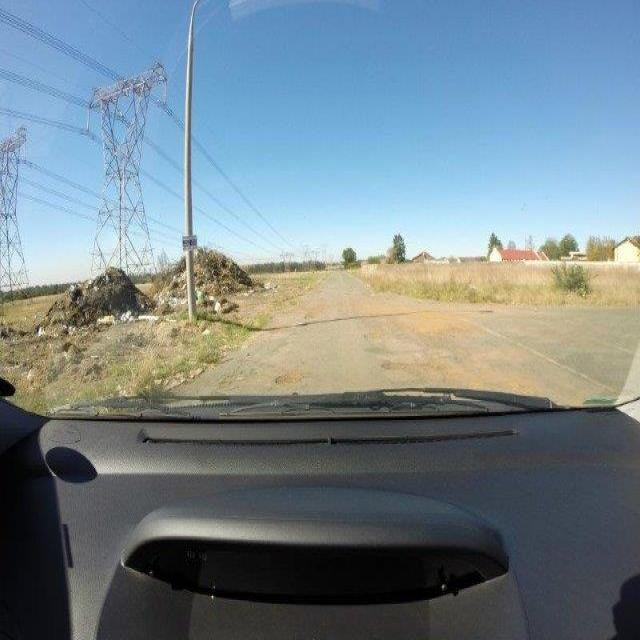lubang: (378, 359, 454, 385), (272, 371, 308, 388), (300, 304, 324, 324)
